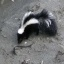skunk: (17, 11, 57, 42)
